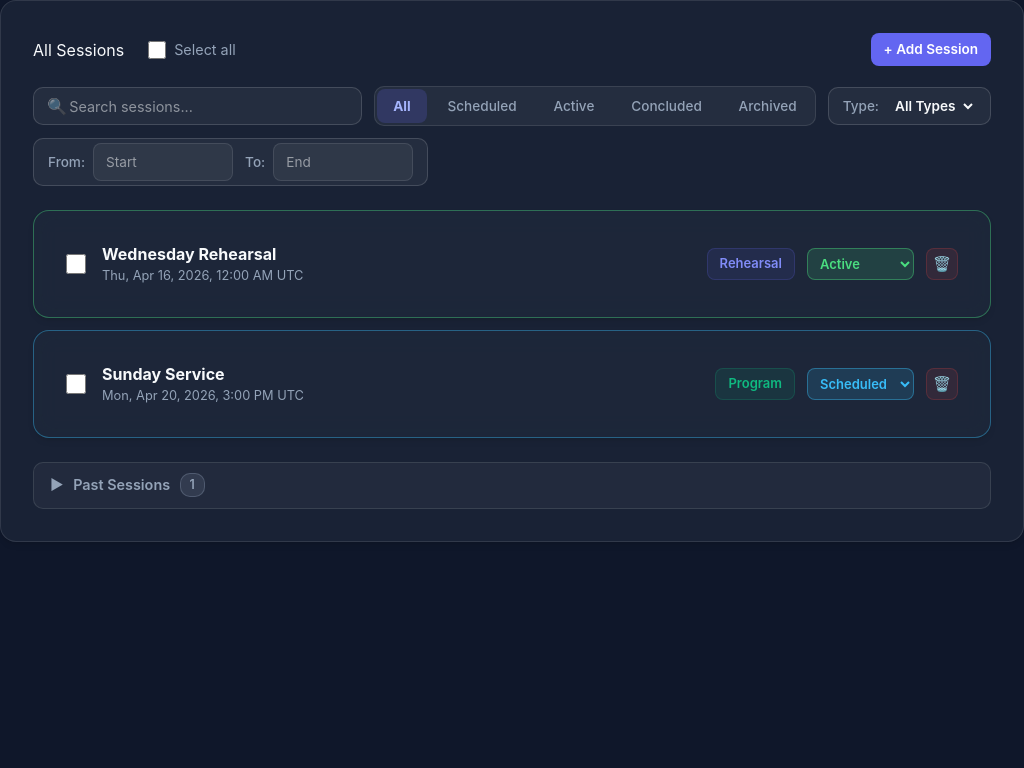
it: Sessions Page Tests › switches to edit mode and shows Save Changes button
The width and height of the screenshot is (1024, 768).
What coordinates should you click on to do the following:
click the text "Sunday Service"
I would click on:
 (163, 374)
Its box is x1=102 y1=364 x2=225 y2=384.
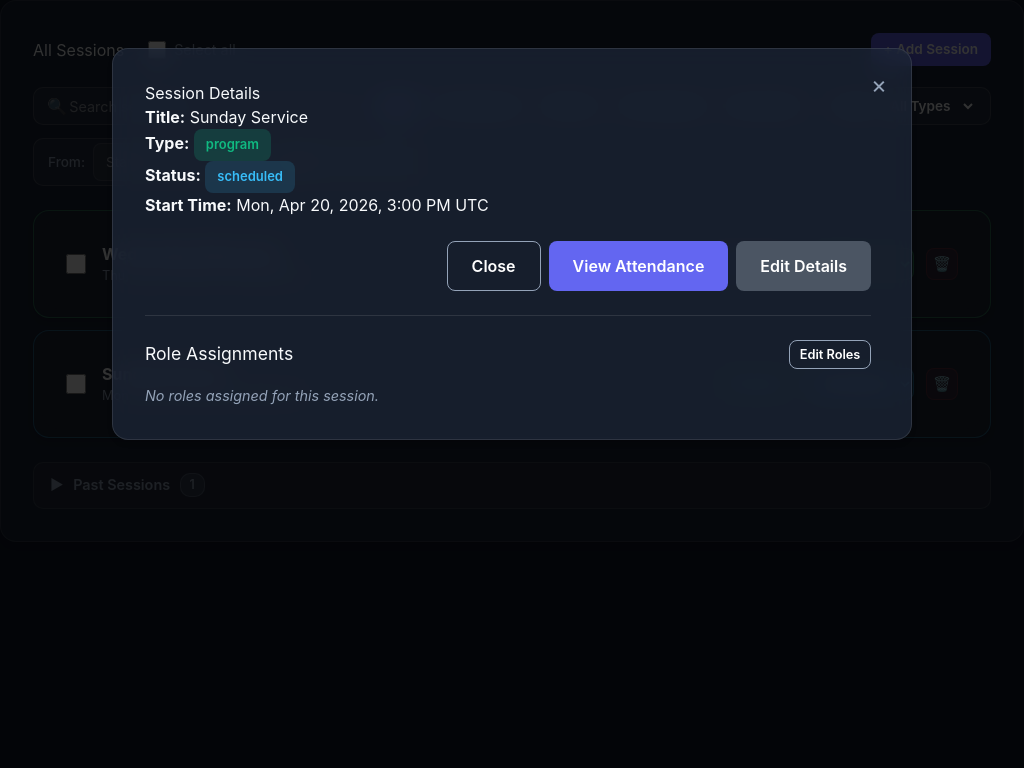
What coordinates should you click on to do the following:
click the button "Edit Details"
I would click on:
 (804, 266)
Its box is x1=736 y1=241 x2=871 y2=291.
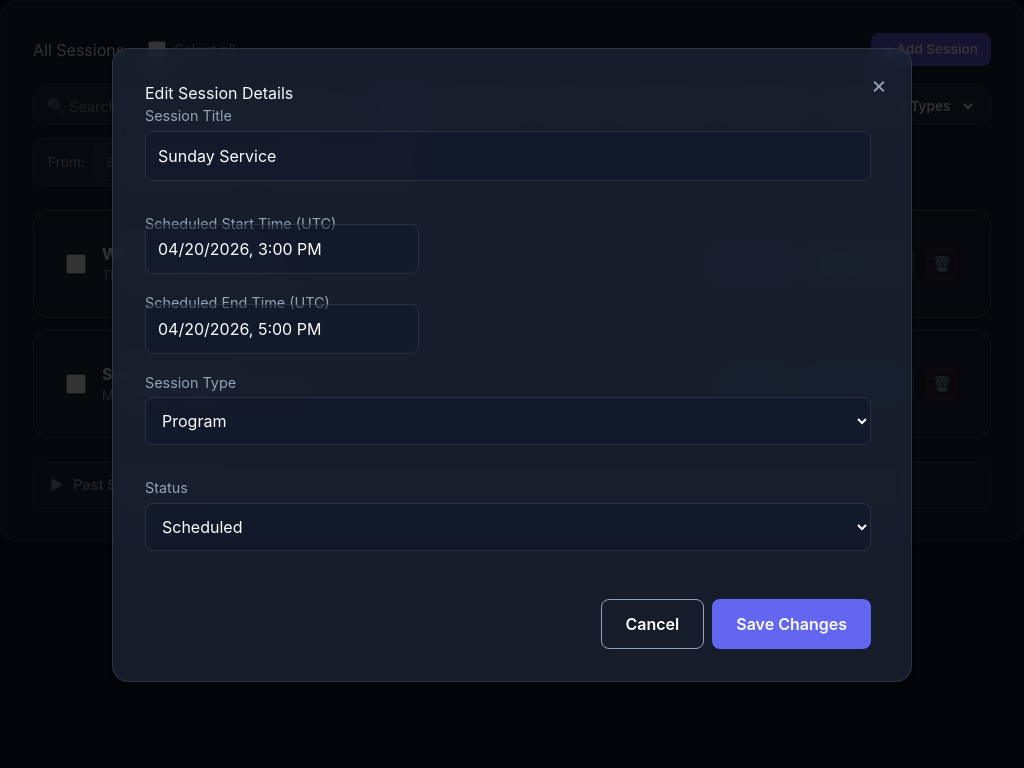
Expected: the heading "Edit Session Details" is shown, x1=145 y1=83 x2=293 y2=103
Expected: the button "Save Changes" is shown, x1=712 y1=599 x2=871 y2=649
